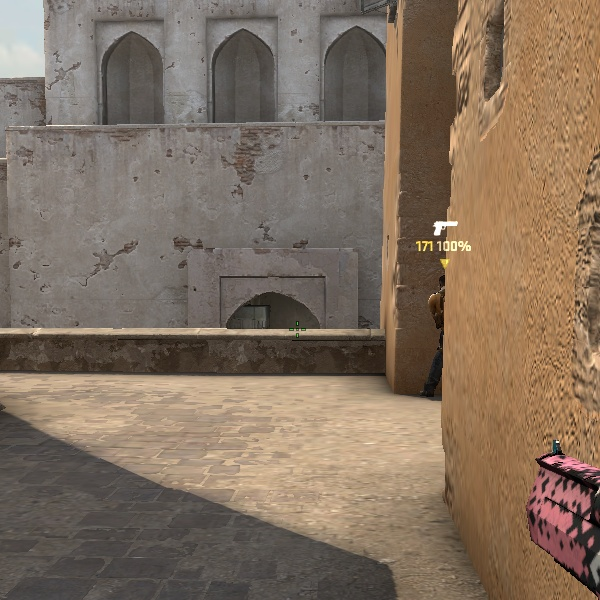t_body: (413, 270, 453, 400)
